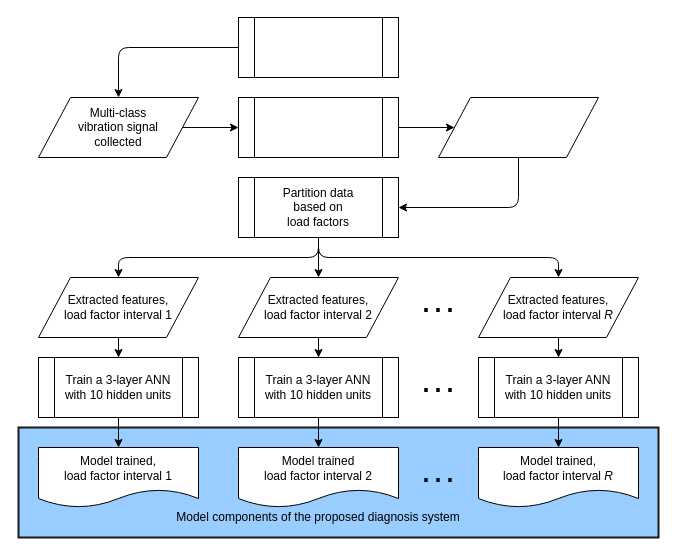
Some shapes in this 676 by 556 pixel diagram are drawn without their labels. Each missing label, with the centre of its shape:
Collect multi-class vibration signal: point (318, 47)
Extract pre-selected features: point (318, 127)
Pre-selected features extracted: point (518, 127)
